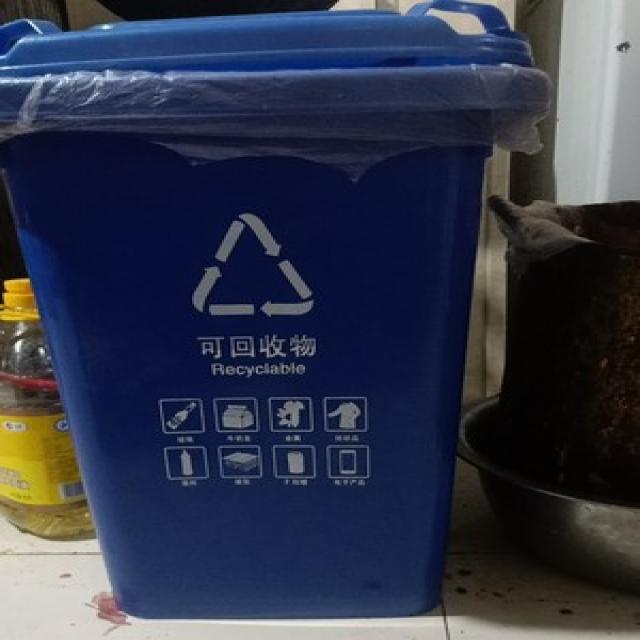ash bin: (2, 2, 546, 620)
